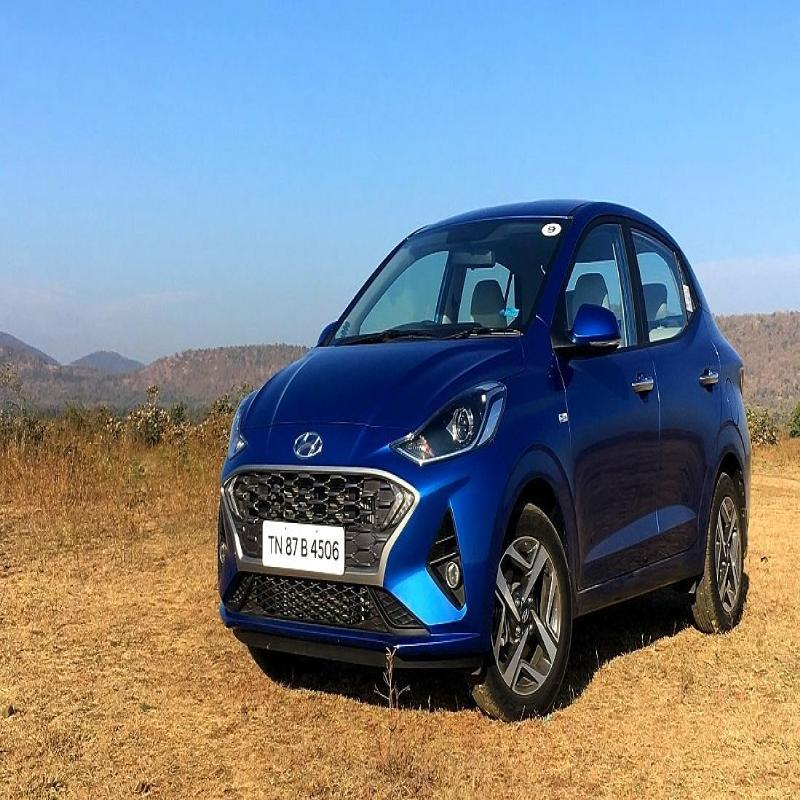car: (200, 180, 748, 729)
